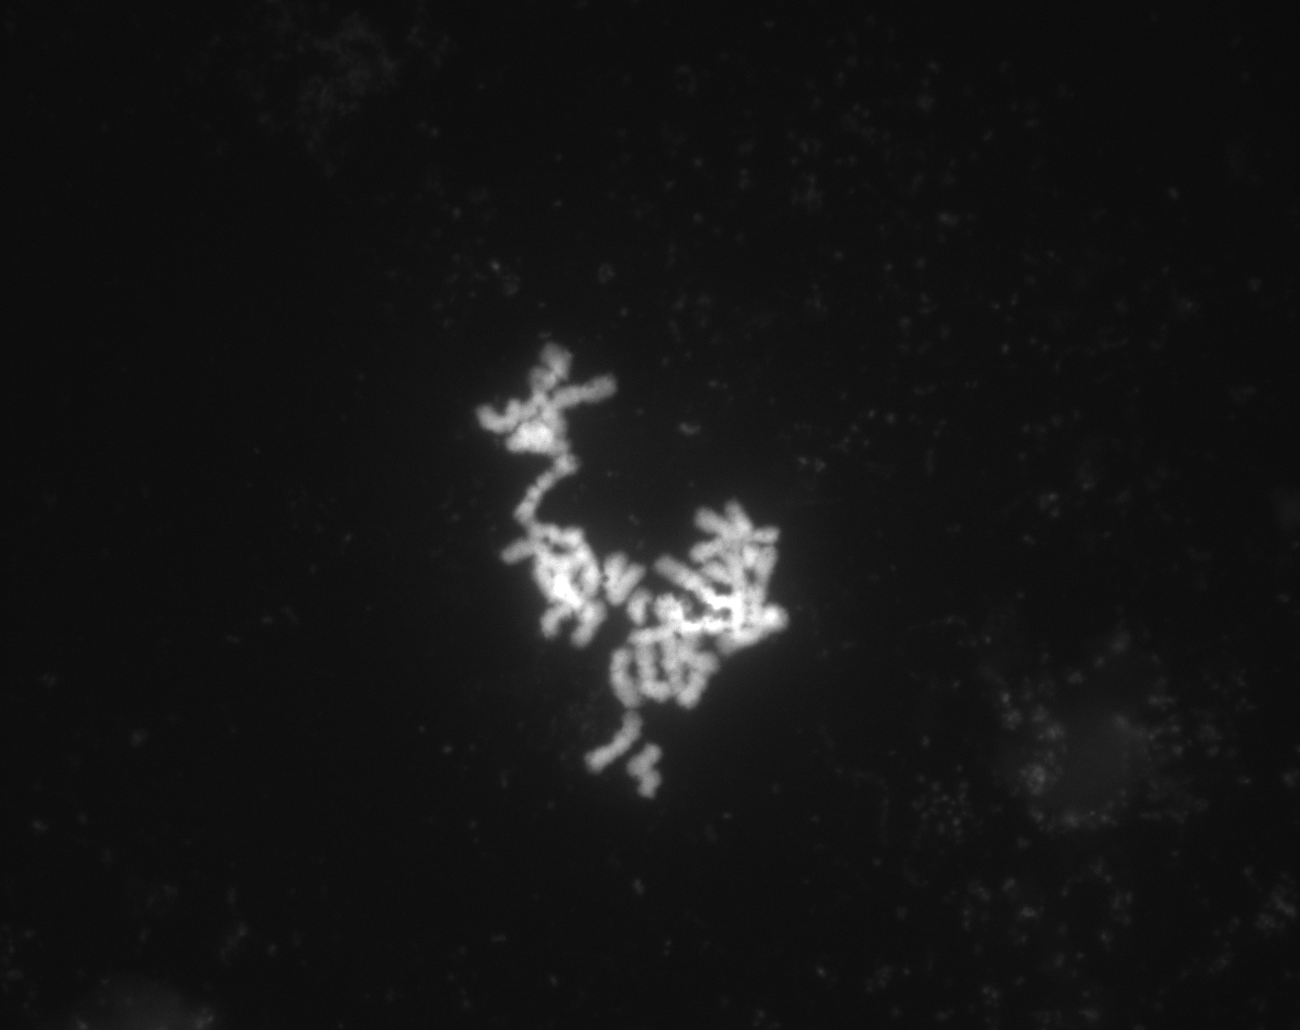Chromosomes: (433, 309, 825, 836)
